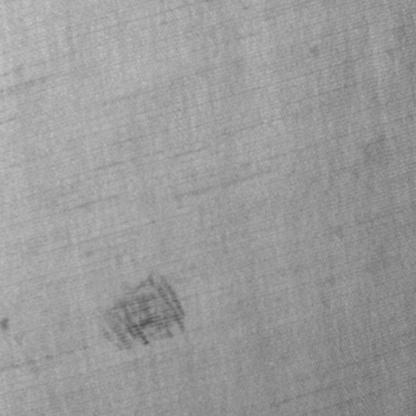oil spot: (98, 270, 190, 351)
